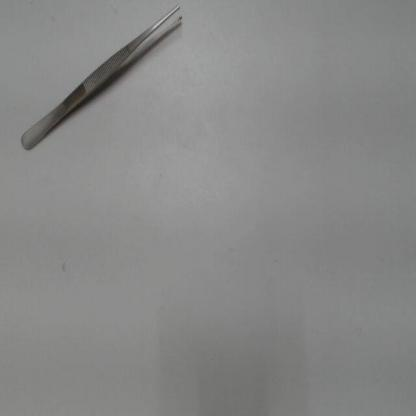Gillies Toothed Dissector: (13, 6, 194, 157)
